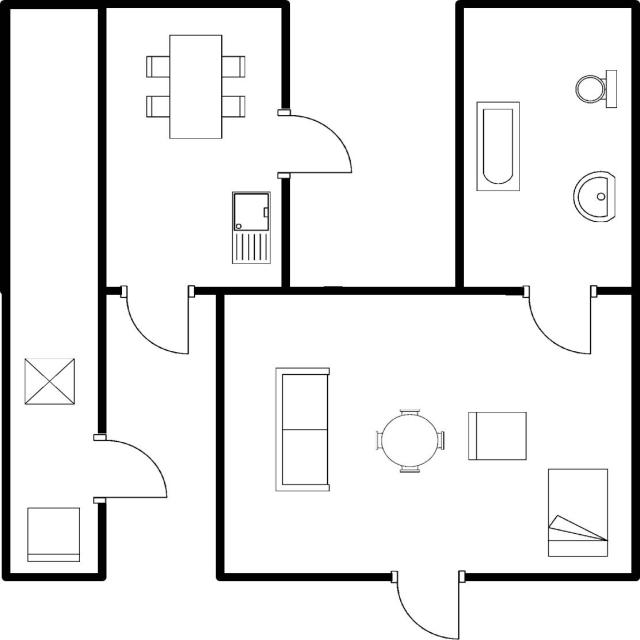bed: (542, 464, 614, 564)
coffee_table: (20, 354, 80, 409)
dining_table: (140, 30, 249, 144)
large_sink: (569, 64, 622, 113)
large_sofa: (269, 362, 335, 497)
round_table: (370, 404, 450, 478)
sink: (226, 186, 274, 268)
small_sink: (569, 165, 619, 228)
small_sofa: (20, 503, 86, 566), (462, 407, 531, 466)
tub: (471, 95, 524, 196)
